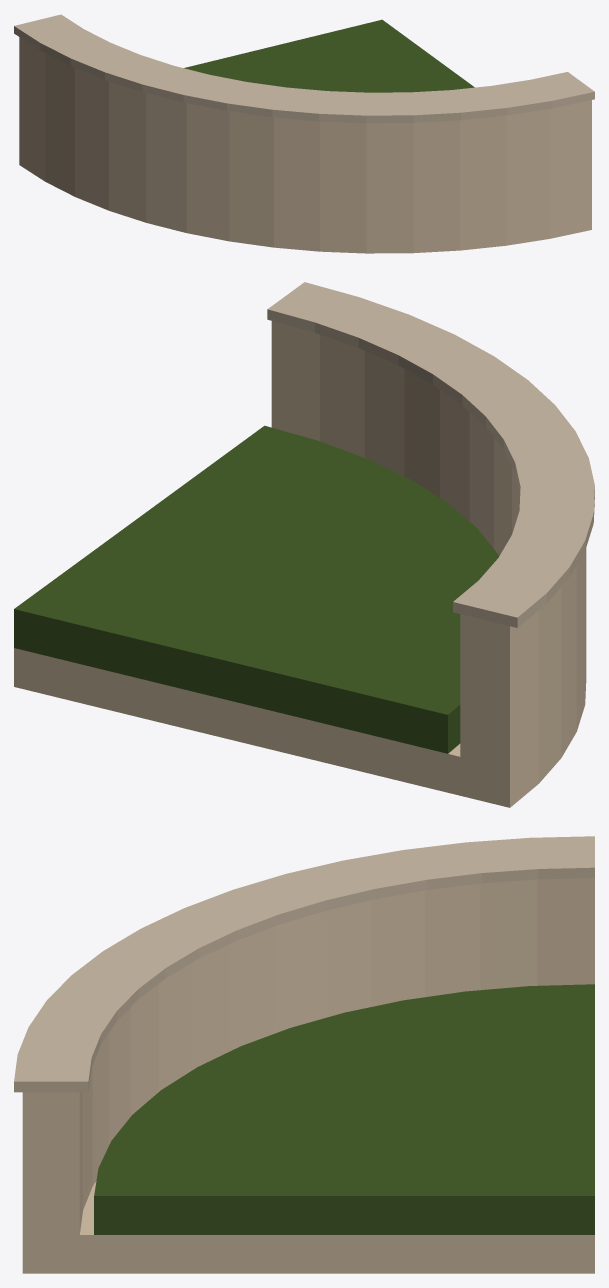
File: city_roof_round.glb
3 renders of one model, top to bottom at view 1: azimuth 30°, elevation 25°; view 2: azimuth 150°, elevation 25°; view 3: azimuth 270°, elevation 25°, orthographic. The views are drawn at different scales.
Parts seen in each view (by area): view 1: CityRoofRound_Parapet, CityRoofRound_Coping, CityRoofRound_Slab, CityRoofRound_Meadow; view 2: CityRoofRound_Meadow, CityRoofRound_Parapet, CityRoofRound_Coping, CityRoofRound_Slab; view 3: CityRoofRound_Meadow, CityRoofRound_Parapet, CityRoofRound_Coping, CityRoofRound_Slab.
Part boxes in pixels (bbox=[...]): CityRoofRound_Parapet: bbox=[19, 37, 591, 224]; CityRoofRound_Coping: bbox=[14, 14, 594, 123]; CityRoofRound_Slab: bbox=[19, 137, 591, 253]; CityRoofRound_Meadow: bbox=[184, 19, 474, 92]; CityRoofRound_Meadow: bbox=[14, 425, 498, 753]; CityRoofRound_Parapet: bbox=[271, 321, 586, 768]; CityRoofRound_Coping: bbox=[267, 282, 594, 627]; CityRoofRound_Slab: bbox=[14, 645, 586, 807]; CityRoofRound_Meadow: bbox=[94, 984, 594, 1234]; CityRoofRound_Parapet: bbox=[22, 878, 594, 1234]; CityRoofRound_Coping: bbox=[14, 836, 594, 1092]; CityRoofRound_Slab: bbox=[22, 1181, 594, 1273].
Size of the model in its own units: 4.06 by 1.48 by 4.06.
